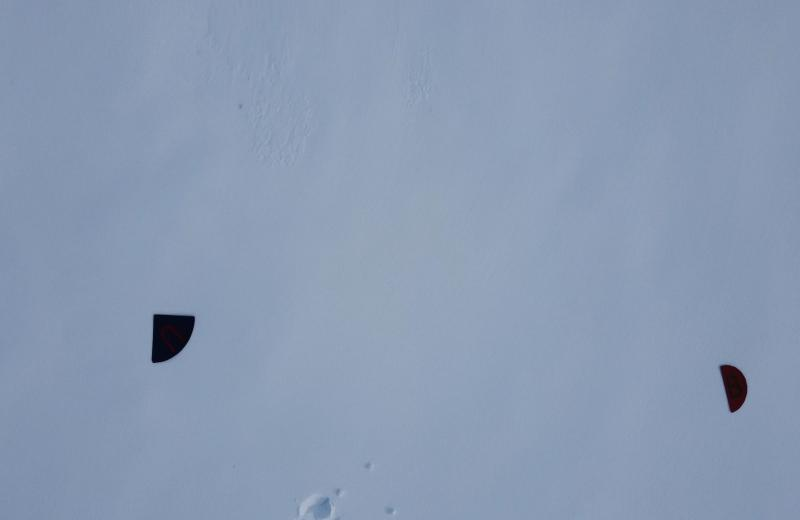Quarter Circle: (150, 310, 196, 365)
Semi Circle: (716, 362, 750, 412)
